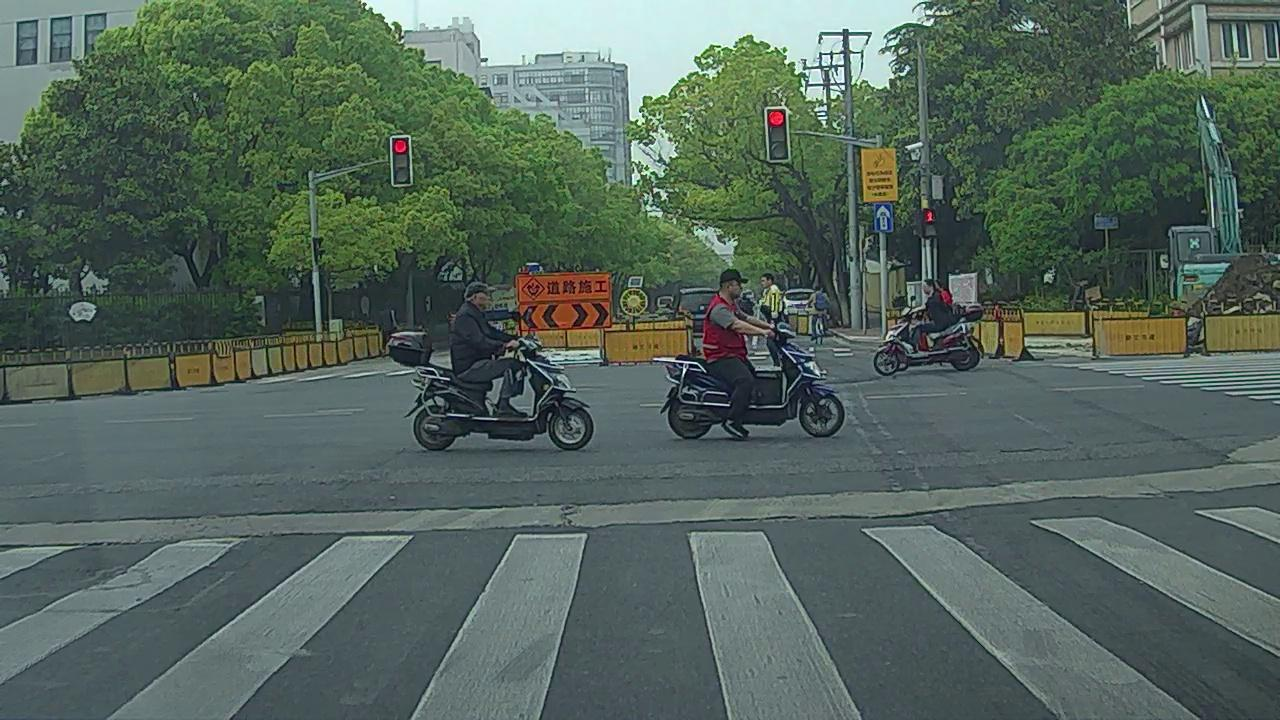traffic_light: (766, 108, 790, 160), (391, 137, 411, 185)
